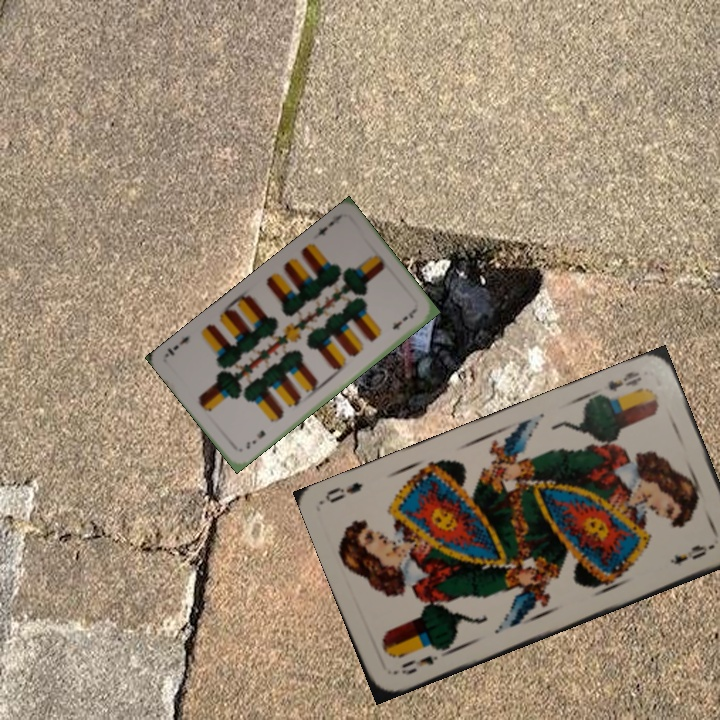E7: (242, 426, 268, 452), (313, 216, 337, 238)
EO: (397, 651, 441, 678), (604, 367, 645, 394)
